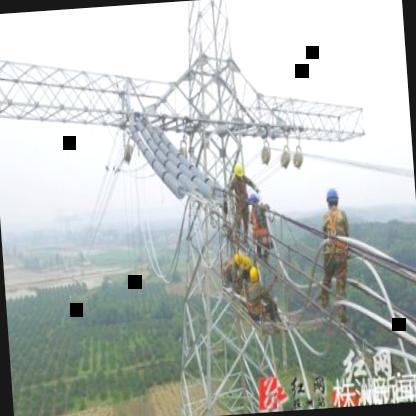helmet: (324, 182, 342, 212), (247, 264, 263, 285), (232, 161, 247, 182), (232, 248, 244, 268), (242, 254, 253, 272)
